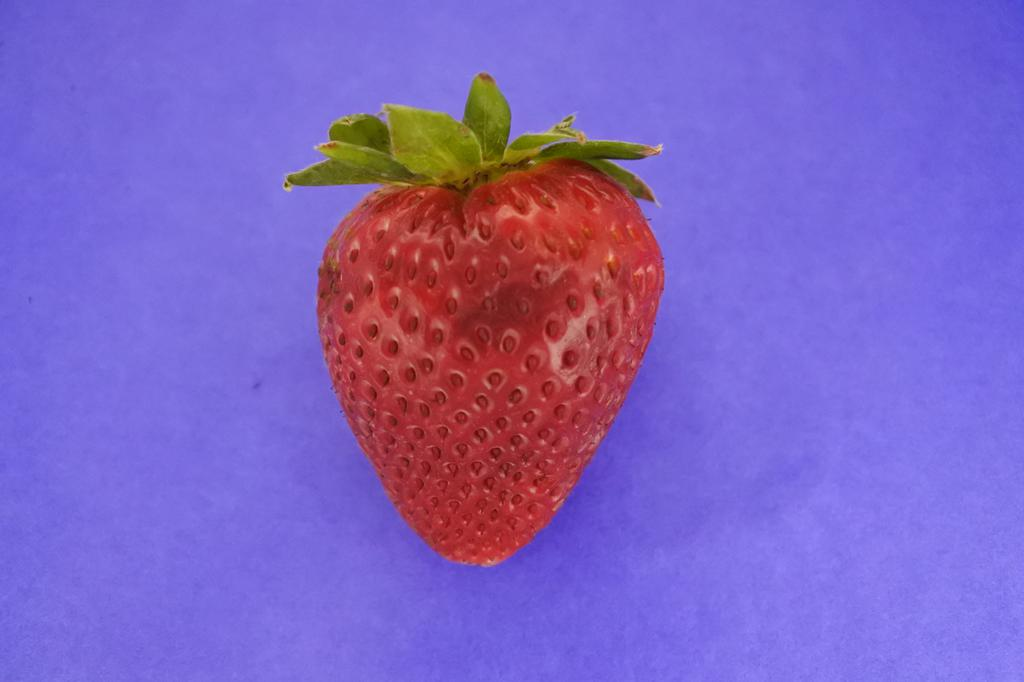red strawberry: (285, 75, 663, 569)
